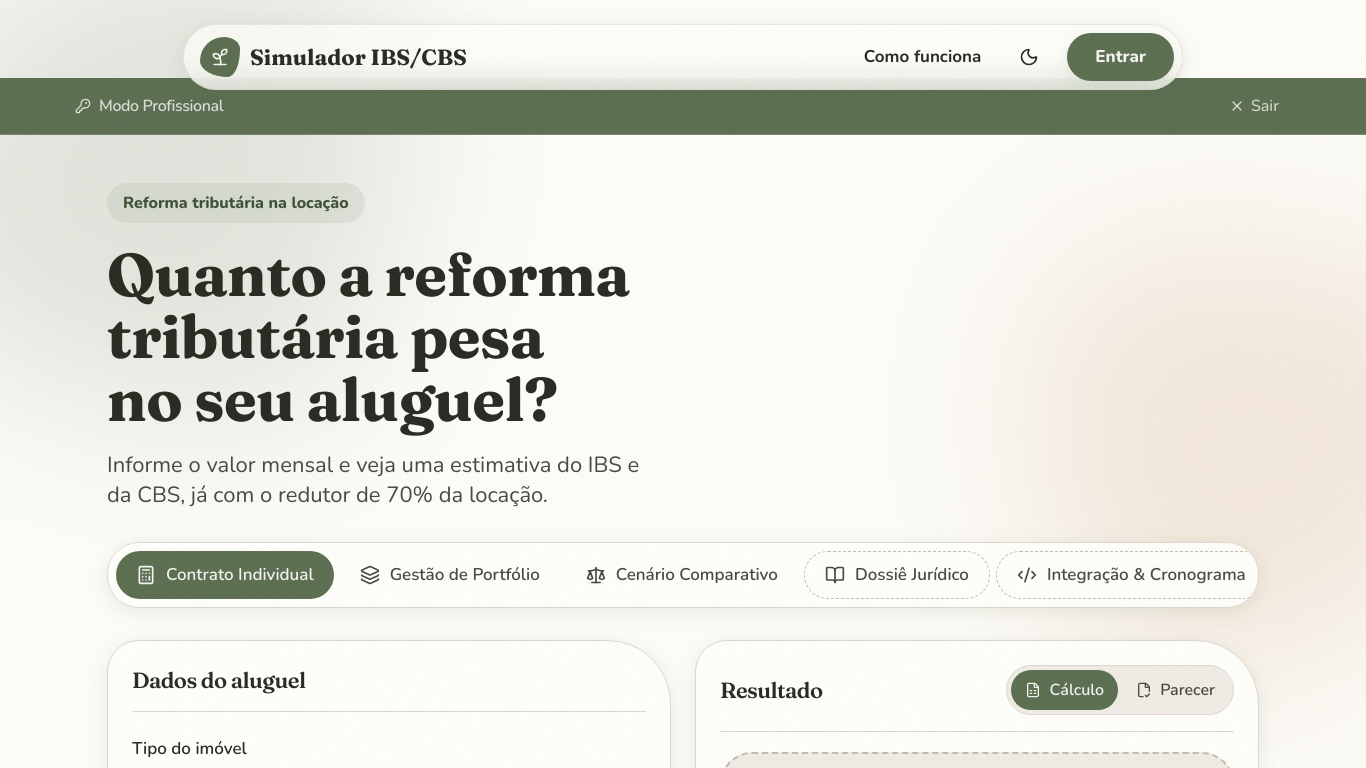
Test: Área reservada (Modo Profissional) › ao sair, recolhe os módulos reservados e devolve o usuário a uma aba pública
Click the tab "Dossiê Jurídico". click: (897, 575)
box: [804,551,990,599]
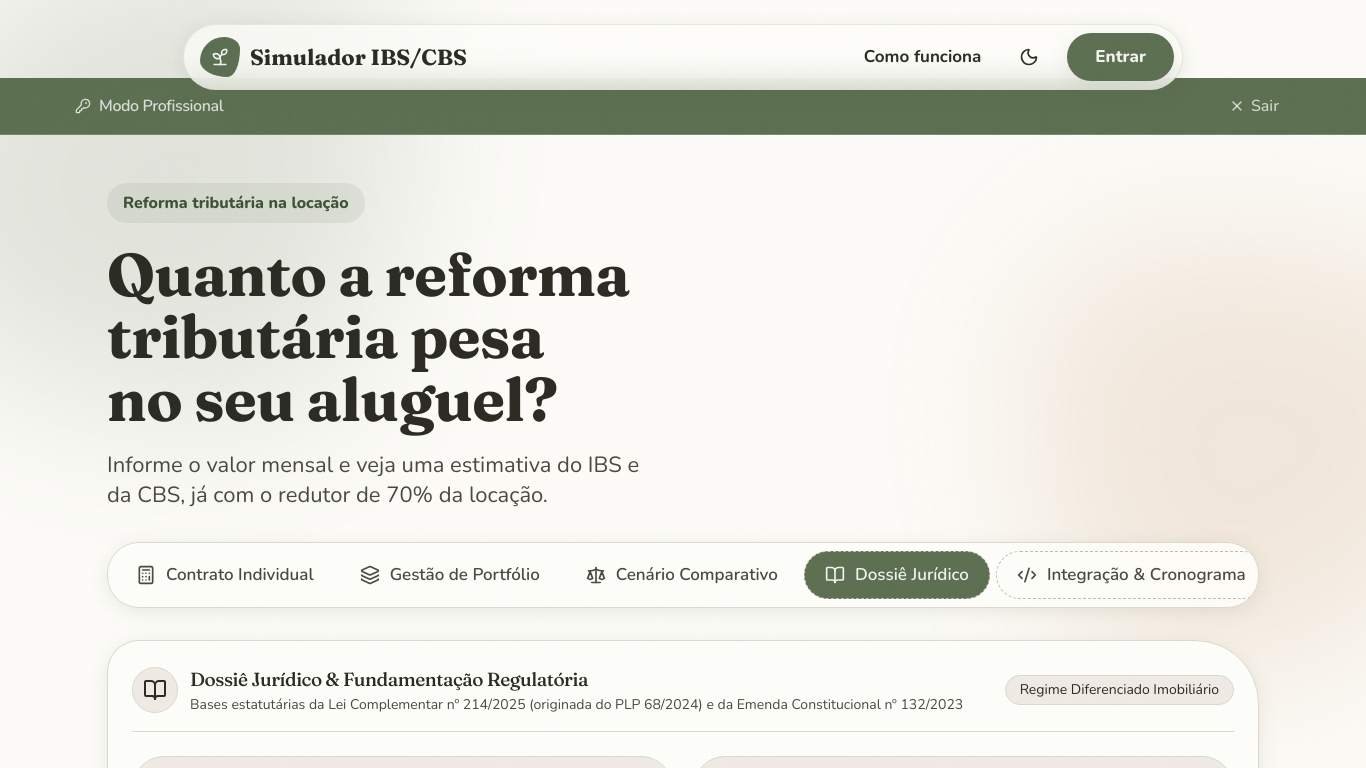
Click the button "Sair". click: (1254, 106)
box: [1217,88,1291,124]
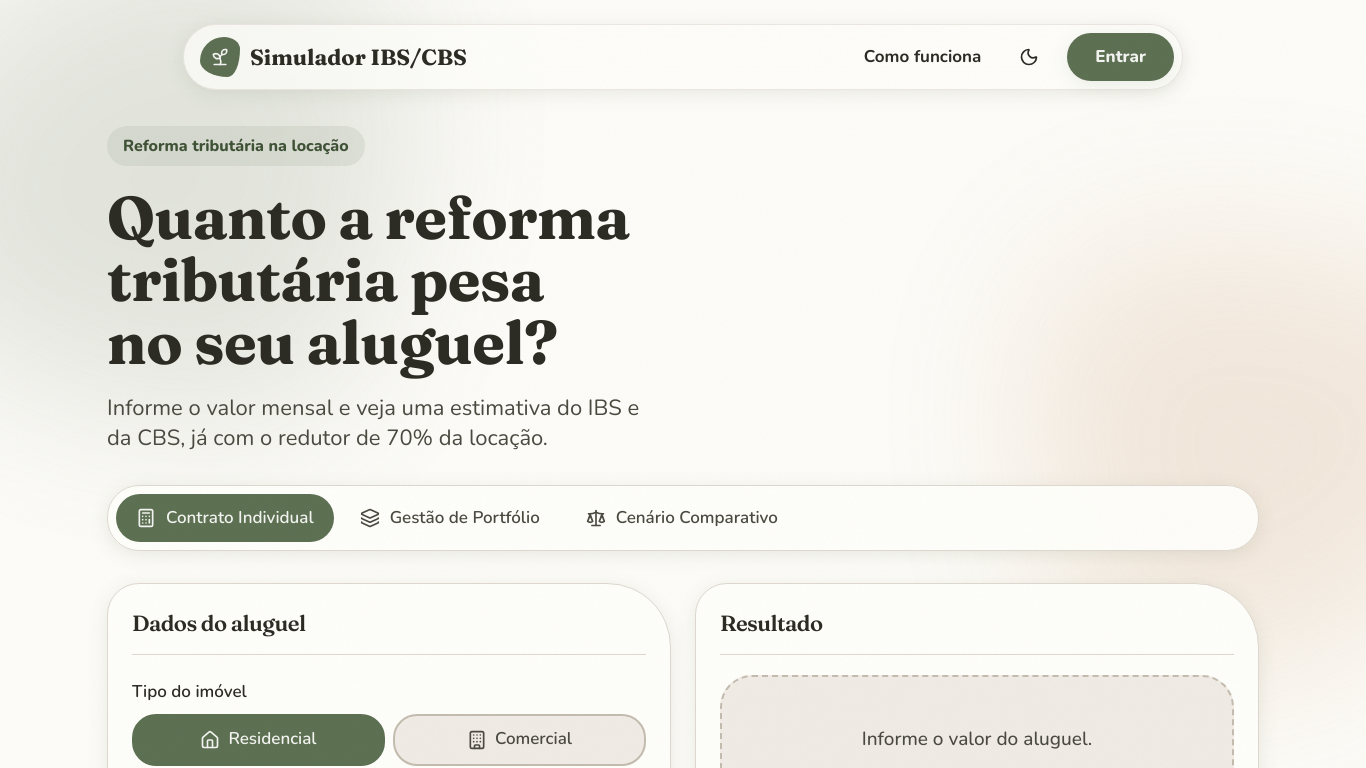
Expected: the text "Modo Profissional" is gone
Expected: the tab "Dossiê Jurídico" is gone
